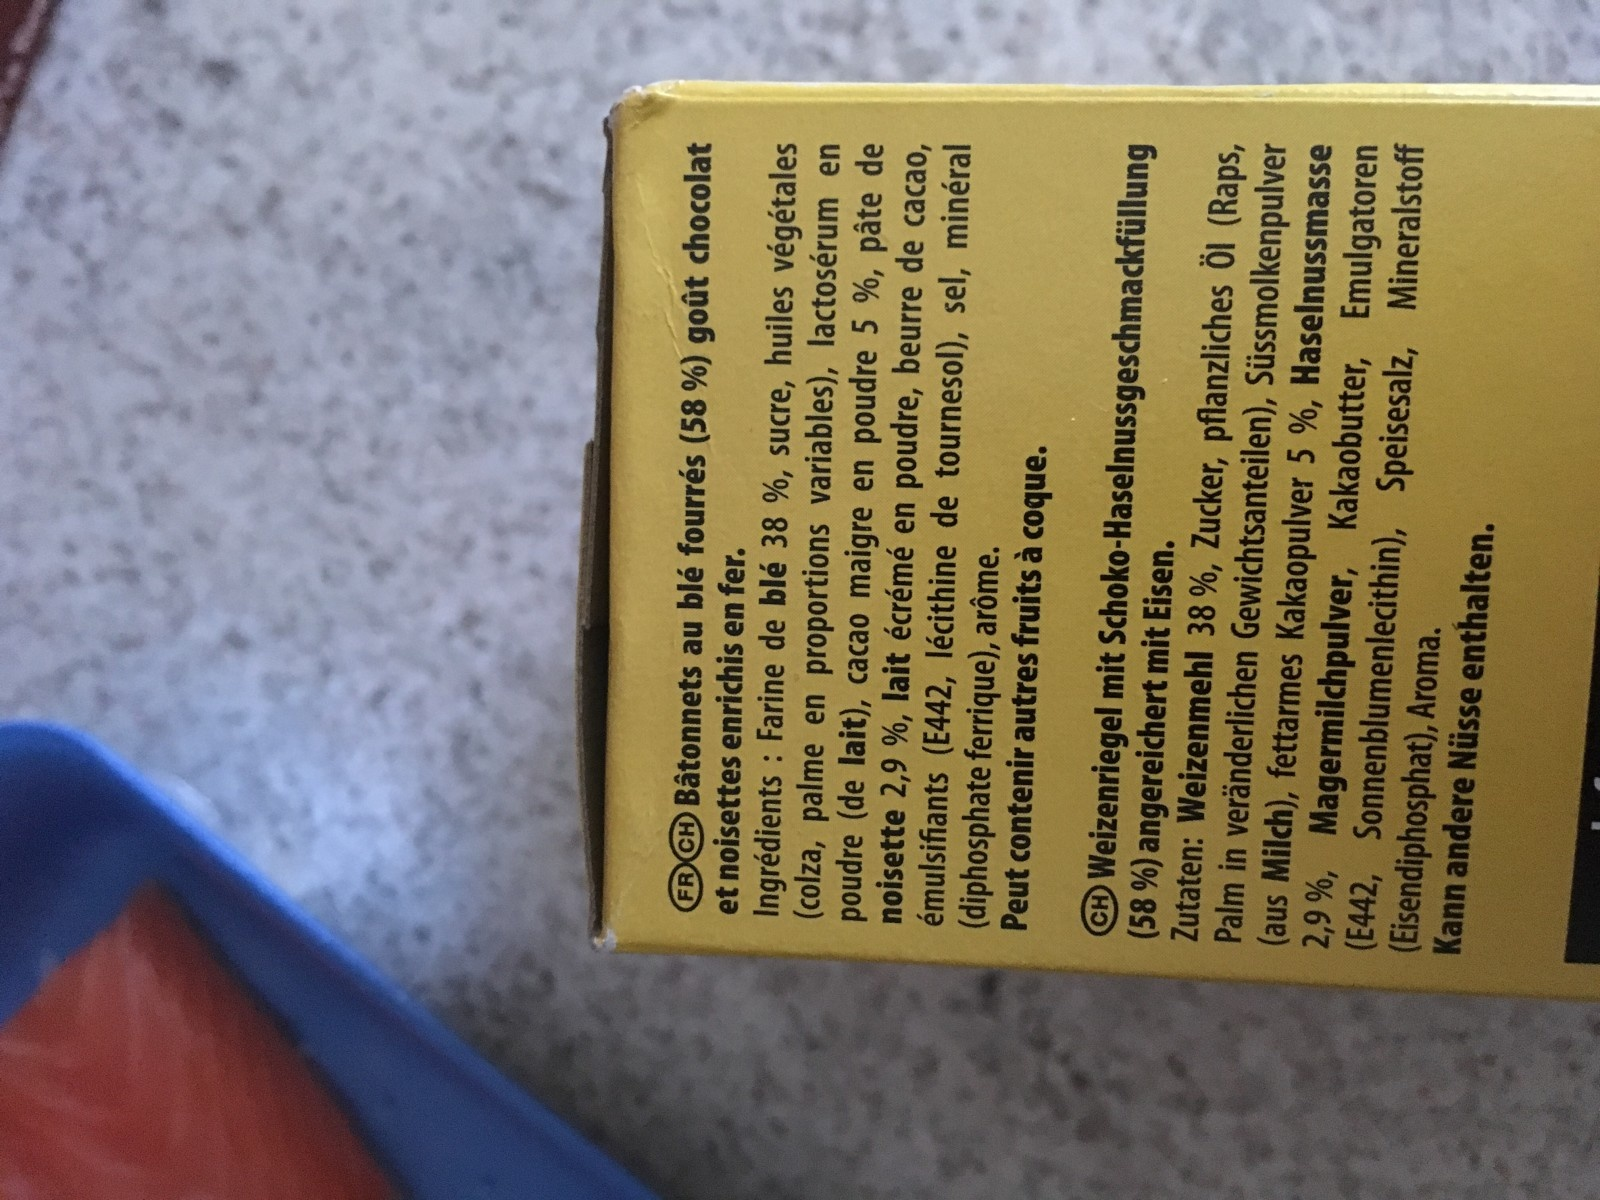ingredients: (747, 115, 1060, 932)
